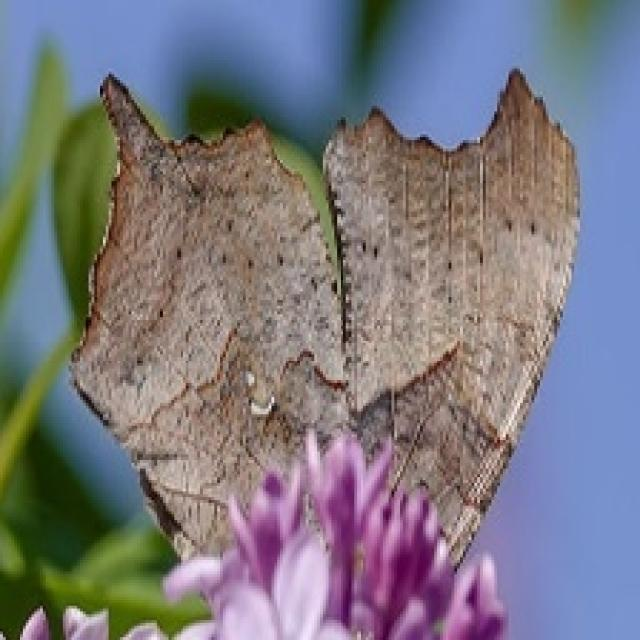butterfly: (66, 63, 580, 583)
